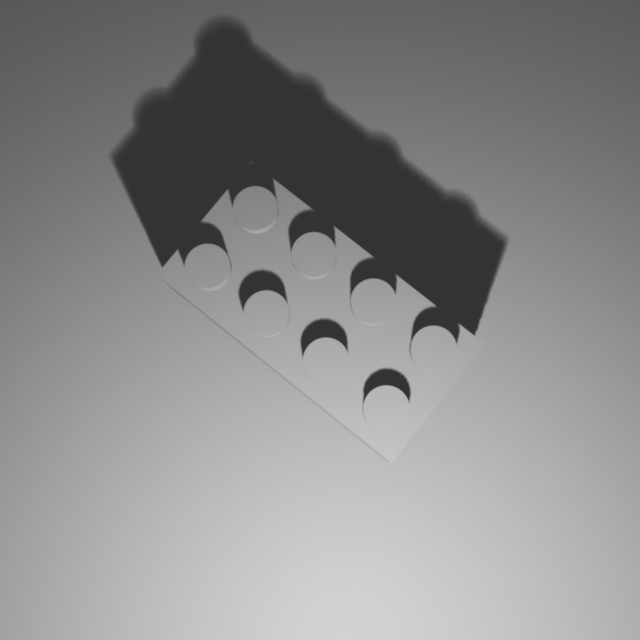lego_2x4: (154, 157, 488, 464)
